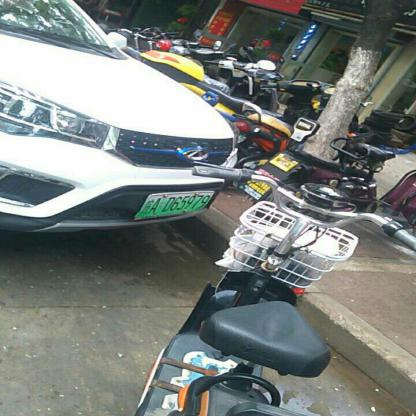lp: (134, 192, 216, 218)
